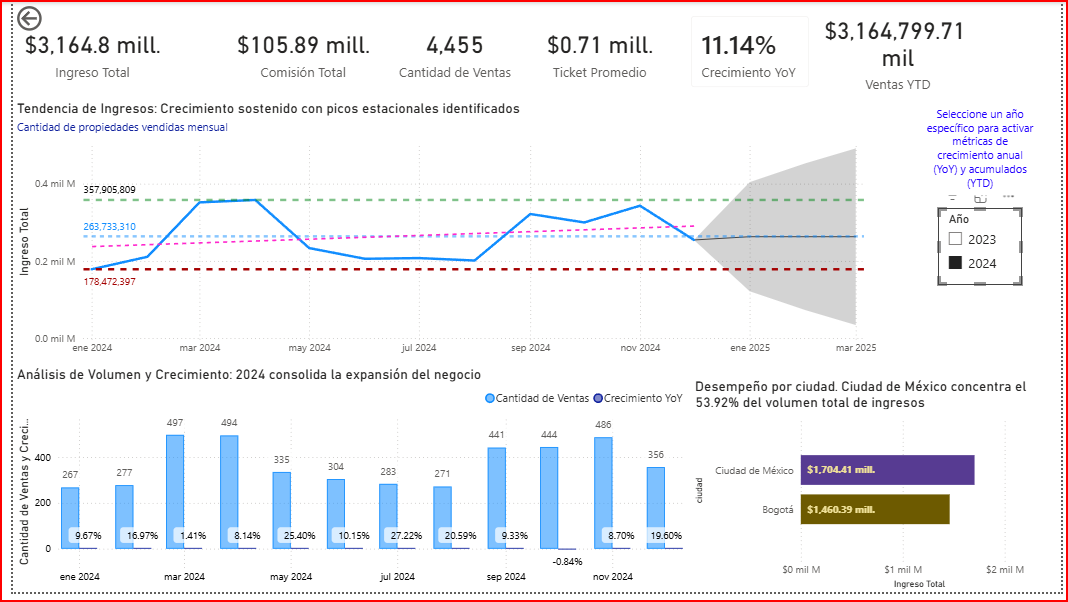

Layout of this report page (visuals, bound fields, positions):
{"tool":"powerbi","page":{"name":"General","canvas":[1280,720],"ordinal":0},"visuals":[{"type":"card","fields":{"Values":["_Medidas.Ingreso Total"]},"box":[0,0,194.1,122.5],"z":0},{"type":"card","fields":{"Values":["_Medidas.Cantidad de Ventas"]},"box":[441.8,0,195.4,122.5],"z":1000},{"type":"card","fields":{"Values":["_Medidas.Ticket Promedio"]},"box":[620.7,0,189.9,122.5],"z":2000},{"type":"card","fields":{"Values":["_Medidas.Comisión Total"]},"box":[265.6,0,176.2,122.5],"z":3000},{"type":"lineChart","title":"Tendencia de Ingresos: Crecimiento sostenido con picos estacionales identificados","fields":{"Y":["_Medidas.Ingreso Total"],"Category":["dim_fecha.Año-Mes (YYYY-MM)"]},"box":[0,119.7,1058.4,320.7],"z":4000},{"type":"barChart","title":"Desempeño por ciudad. Ciudad de México concentra el 53.92% del volumen total de ingresos","fields":{"Category":["hecho_ventas_propiedades.ciudad"],"Y":["_Medidas.Ingreso Total"]},"box":[827.2,458.3,452.8,261.5],"z":5000},{"type":"lineClusteredColumnComboChart","title":"Análisis de Volumen y Crecimiento: 2024 consolida la expansión del negocio","fields":{"Category":["dim_fecha.Año-Mes (YYYY-MM)"],"Y":["_Medidas.Cantidad de Ventas","_Medidas_Tiempo.Crecimiento YoY"]},"box":[0,444.6,827.2,275.3],"z":6000},{"type":"actionButton","box":[0,0,100,40],"z":7000},{"type":"cardVisual","fields":{"Data":["_Medidas_Tiempo.Crecimiento YoY"]},"box":[810.7,0,178.9,121.1],"z":8000},{"type":"slicer","fields":{"Values":["dim_fecha.Año"]},"box":[1128.6,251.9,103.2,93.6],"z":9000},{"type":"card","fields":{"Values":["_Medidas_Tiempo.Ventas YTD"]},"box":[978.6,0,202.3,118.4],"z":10000},{"type":"textbox","box":[1109.3,122.5,141.8,114.2],"z":13000}]}

Visuals, with their boxes in screenshot pixels (x1, y1, x2, y2), scaled from the page's 1280x720 canvas onto the 1068x602 screenshot:
card - _Medidas.Ingreso Total: Rect(0, 0, 162, 102)
card - _Medidas.Cantidad de Ventas: Rect(369, 0, 532, 102)
card - _Medidas.Ticket Promedio: Rect(518, 0, 676, 102)
card - _Medidas.Comisión Total: Rect(222, 0, 369, 102)
"Tendencia de Ingresos: Crecimiento sostenido con picos estacionales identificados" lineChart: Rect(0, 100, 883, 368)
"Desempeño por ciudad. Ciudad de México concentra el 53.92% del volumen total de ingresos" barChart: Rect(690, 383, 1067, 601)
"Análisis de Volumen y Crecimiento: 2024 consolida la expansión del negocio" lineClusteredColumnComboChart: Rect(0, 372, 690, 601)
actionButton: Rect(0, 0, 83, 33)
cardVisual - _Medidas_Tiempo.Crecimiento YoY: Rect(676, 0, 826, 101)
slicer - dim_fecha.Año: Rect(942, 211, 1028, 289)
card - _Medidas_Tiempo.Ventas YTD: Rect(817, 0, 985, 99)
textbox: Rect(926, 102, 1044, 198)
